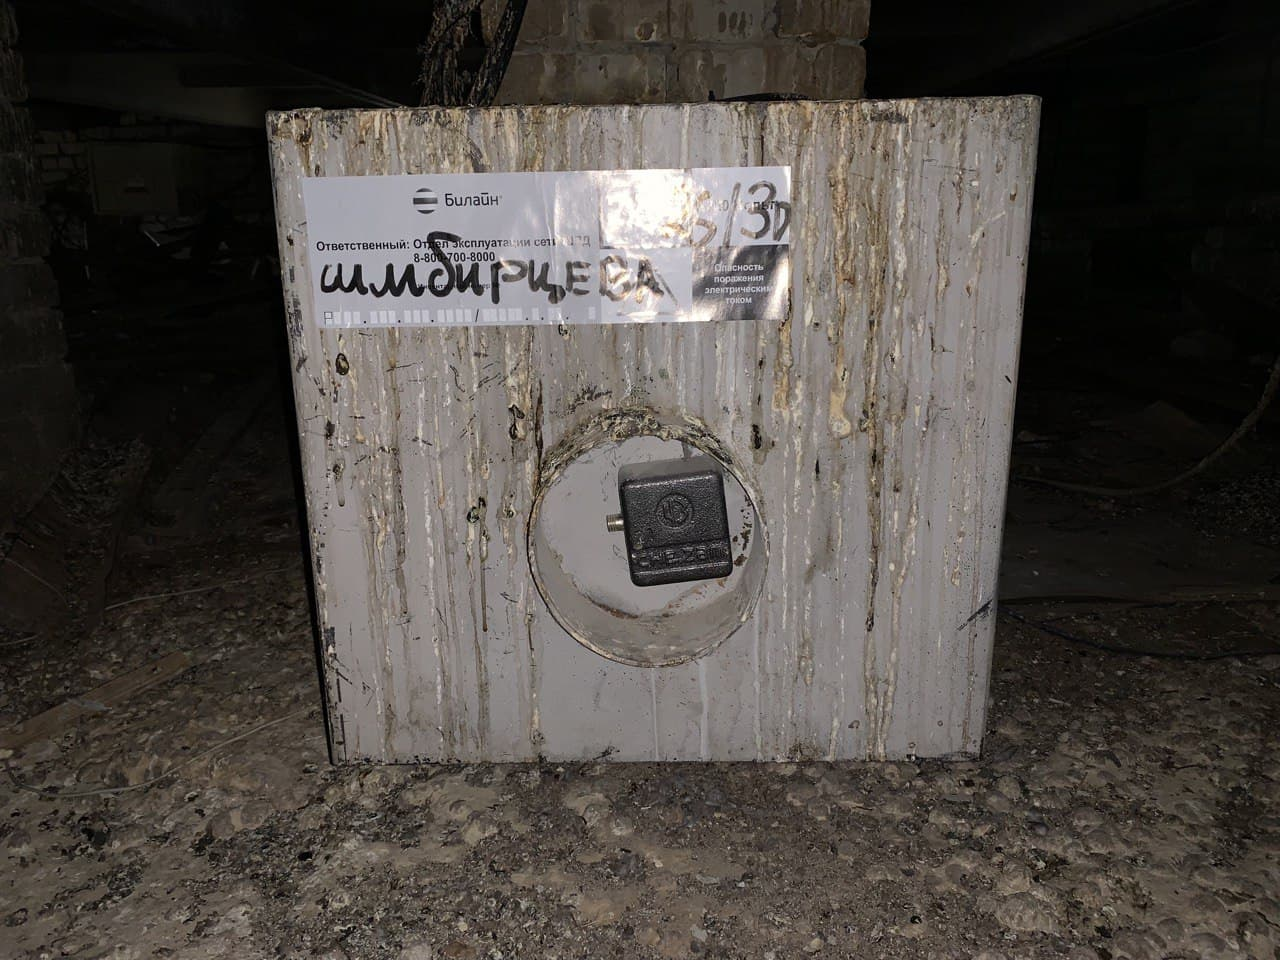shta-9: (255, 79, 1051, 778)
